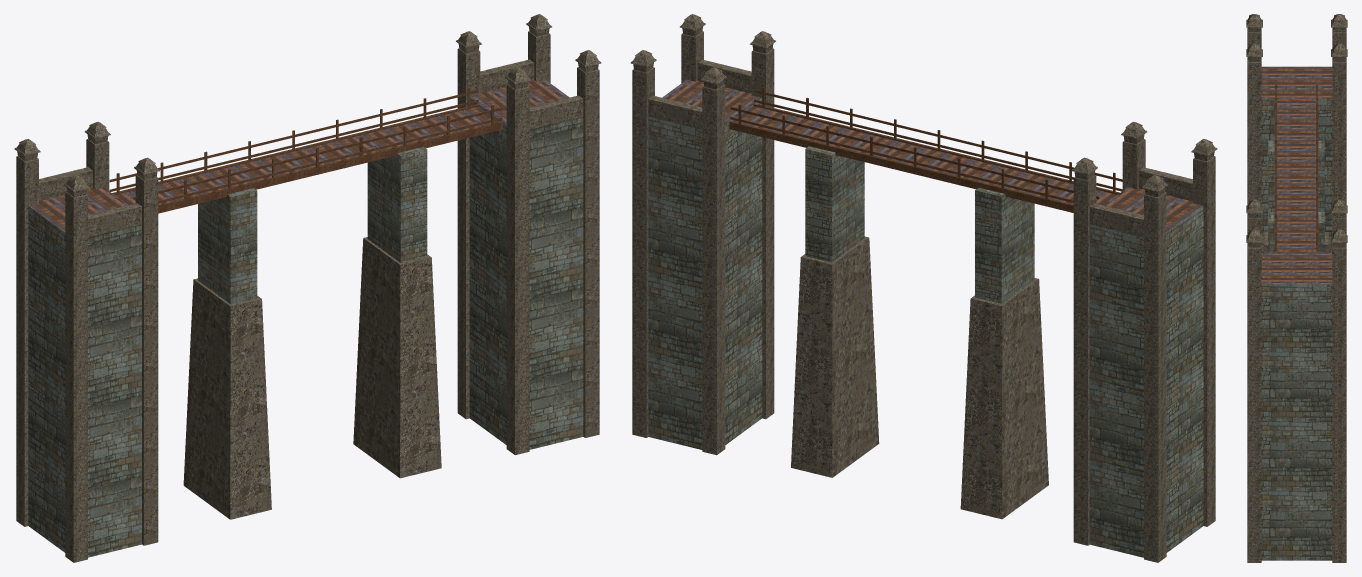
File: fbxBridge.fbx
3 views of the same model, side by side, from view 1: azimuth 30°, elevation 25°; view 2: azimuth 150°, elevation 25°; view 3: azimuth 270°, elevation 25° (orthographic). The views are drawn at different scales.
Visible parts, largest first — view 1: pCube2206, pCube2207, pCube26, pCube27, bridge1, pCube50; view 2: pCube2206, pCube2207, pCube26, pCube27, bridge1, pCube50; view 3: pCube2207, pCube2206, bridge1, pCube27, pCube50, pCube26.
Boxes of the visible parts, x1,y1,x2,y2 form: pCube2206: (14, 121, 159, 562); pCube2207: (456, 14, 601, 455); pCube26: (353, 146, 441, 478); pCube27: (183, 188, 271, 519); bridge1: (110, 103, 503, 213); pCube50: (109, 87, 502, 203); pCube2206: (1072, 121, 1217, 562); pCube2207: (630, 14, 775, 455); pCube26: (791, 146, 879, 477); pCube27: (960, 187, 1048, 519); bridge1: (728, 103, 1122, 212); pCube50: (730, 87, 1122, 202); pCube2207: (1246, 199, 1347, 562); pCube2206: (1246, 14, 1347, 252); bridge1: (1274, 98, 1318, 252); pCube27: (1263, 140, 1329, 252); pCube50: (1275, 84, 1317, 249); pCube26: (1268, 212, 1324, 252).
Size of the model in its own units: 5.3 by 3.66 by 1.02.
4 materials, 4 textured.
